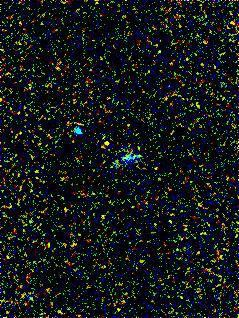star: (90, 126, 120, 156)
